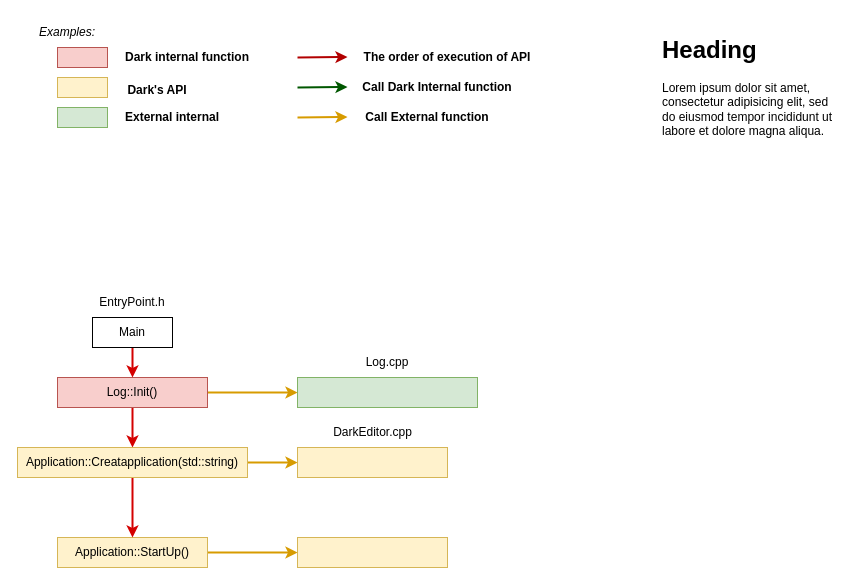
Image size: 865x585. Some labels were removed from this diagram. The box of each missing label's shape, as (x1, y1, x2, y2) in pixels:
CreateApplication(): (296, 446, 448, 478)
spdlog::set_pattern(std::sting): (296, 376, 478, 408)
